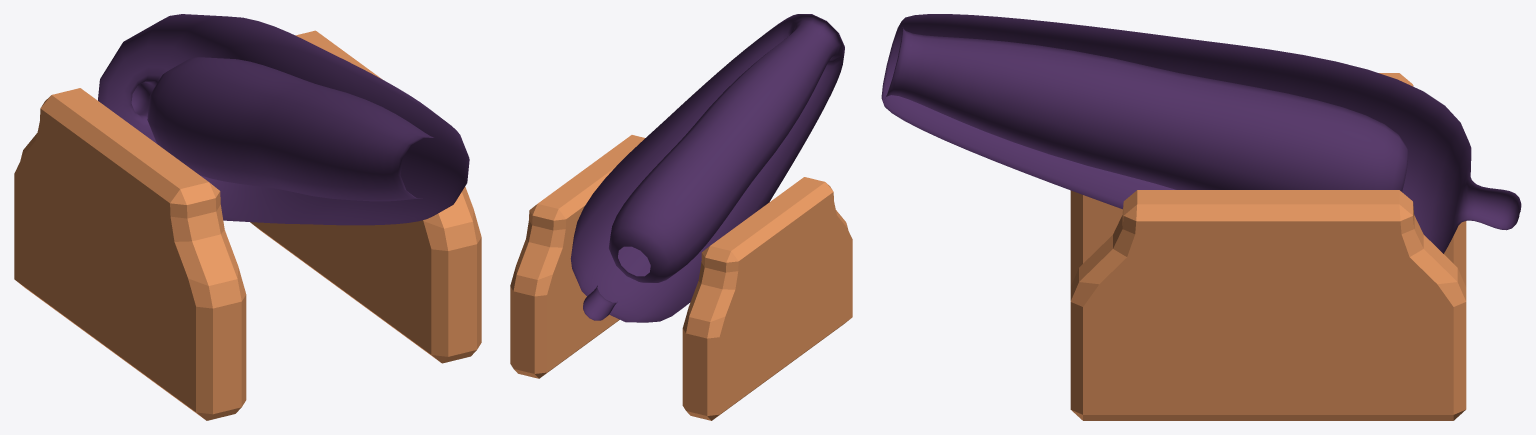
File: cannon.glb
3 views of the same model, side by side, from view 1: azimuth 30°, elevation 25°; view 2: azimuth 150°, elevation 25°; view 3: azimuth 270°, elevation 25° (orthographic). The views are drawn at different scales.
Parts seen in each view (by area): view 1: BezierCurve, board0, board1; view 2: BezierCurve, board0, board1; view 3: board1, BezierCurve, board0.
Boxes of the visible parts, bbox=[...] form: BezierCurve: bbox=[98, 14, 469, 225]; board0: bbox=[14, 88, 246, 420]; board1: bbox=[250, 30, 481, 363]; BezierCurve: bbox=[570, 14, 844, 322]; board0: bbox=[682, 177, 852, 420]; board1: bbox=[510, 135, 644, 378]; board1: bbox=[1070, 190, 1466, 420]; BezierCurve: bbox=[881, 14, 1521, 253]; board0: bbox=[1070, 73, 1466, 286].
Bounding box in the file's own units: 1.7 × 1.87 × 3.23.
